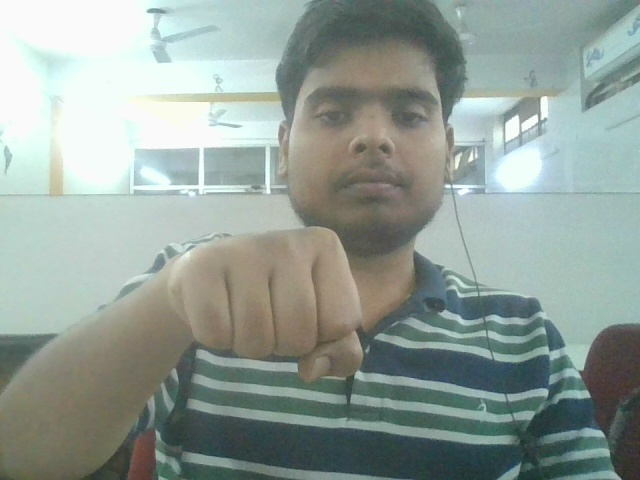Yes: (148, 223, 400, 388)
